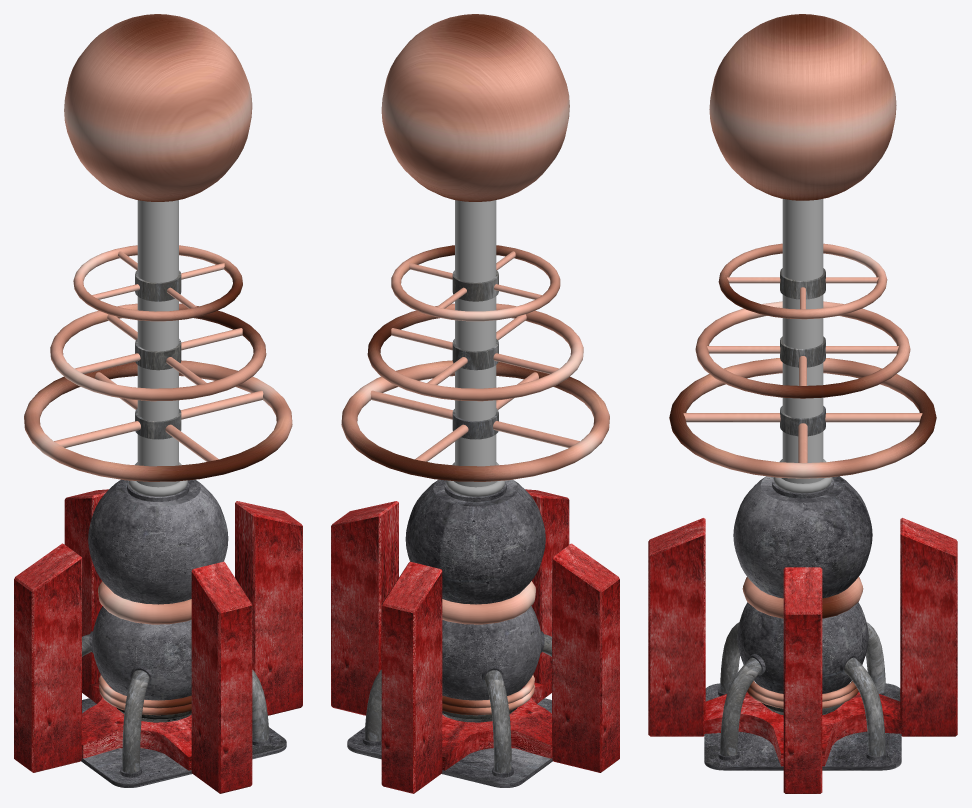
Rendered from tesla_coil.fbx.
3 renders of one model, left to right at view 1: azimuth 30°, elevation 25°; view 2: azimuth 150°, elevation 25°; view 3: azimuth 270°, elevation 25°, orthographic.
Visible parts, largest first — view 1: base, circle_01, circle_02, circle_03; view 2: base, circle_01, circle_02, circle_03; view 3: base, circle_01, circle_02, circle_03.
Boxes of the visible parts, <box> form: base: <box>14,14,302,793</box>; circle_01: <box>24,360,292,481</box>; circle_02: <box>50,303,266,401</box>; circle_03: <box>73,245,242,321</box>; base: <box>331,14,619,793</box>; circle_01: <box>341,360,609,481</box>; circle_02: <box>367,303,583,401</box>; circle_03: <box>391,245,560,321</box>; base: <box>648,14,957,793</box>; circle_01: <box>669,358,936,478</box>; circle_02: <box>695,301,910,398</box>; circle_03: <box>718,243,887,319</box>.
Bounding box in the file's own units: 3.96 × 9.91 × 3.93.
